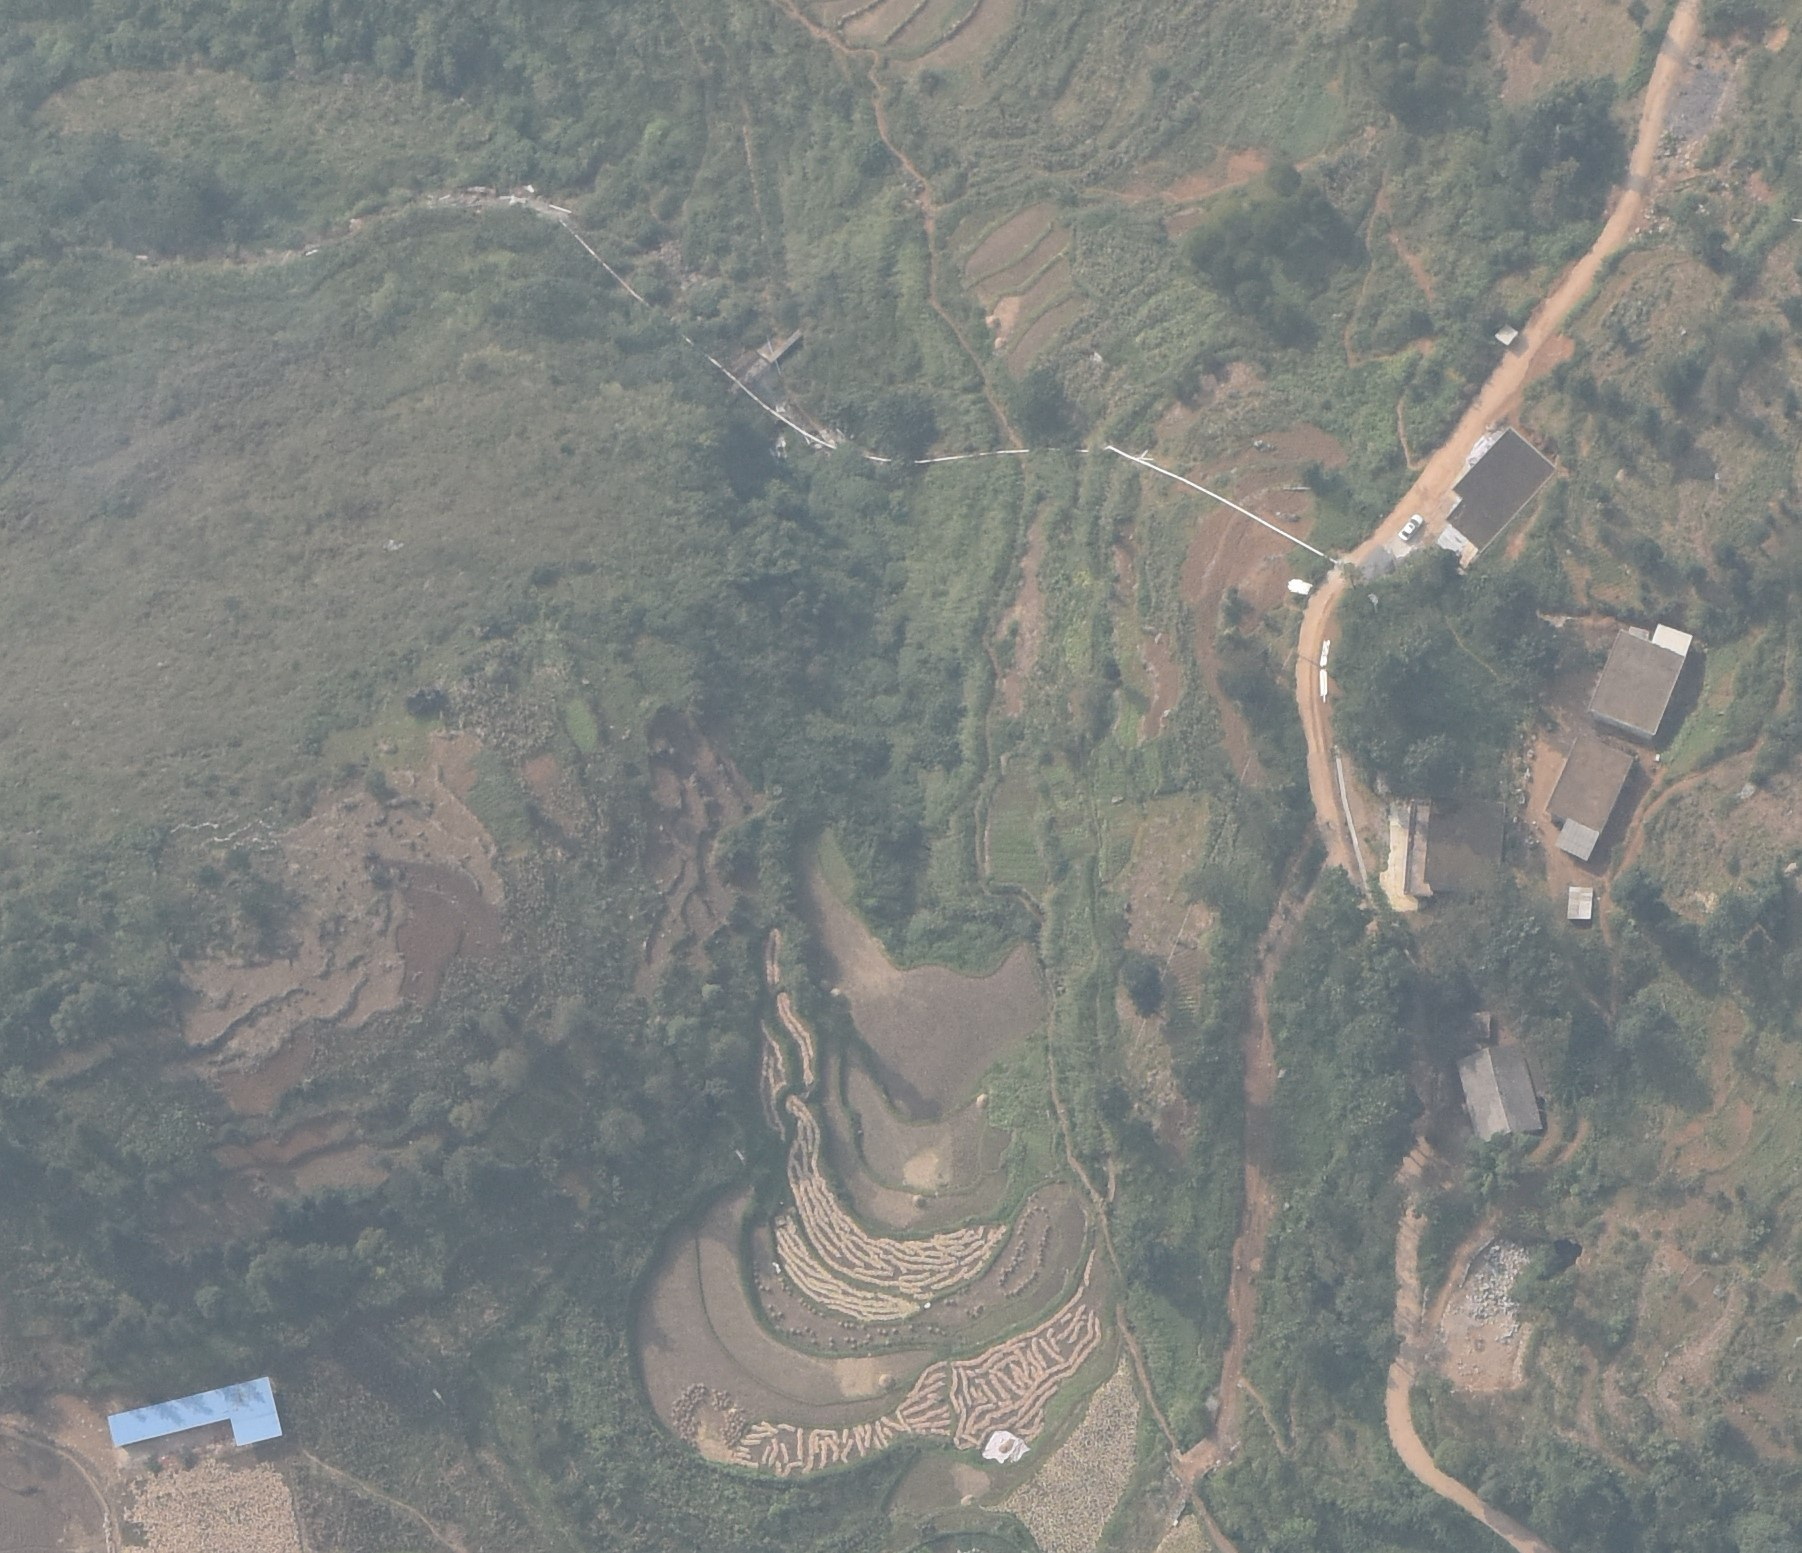building: (1444, 430, 1558, 568), (1585, 630, 1685, 740), (1404, 794, 1505, 898), (1546, 738, 1631, 860), (1456, 1043, 1544, 1144), (1565, 888, 1591, 920)
prefabricated-house: (106, 1374, 285, 1464), (1651, 624, 1694, 655)
quarry: (1430, 1231, 1528, 1397)
vehicle: (1397, 513, 1422, 539)
